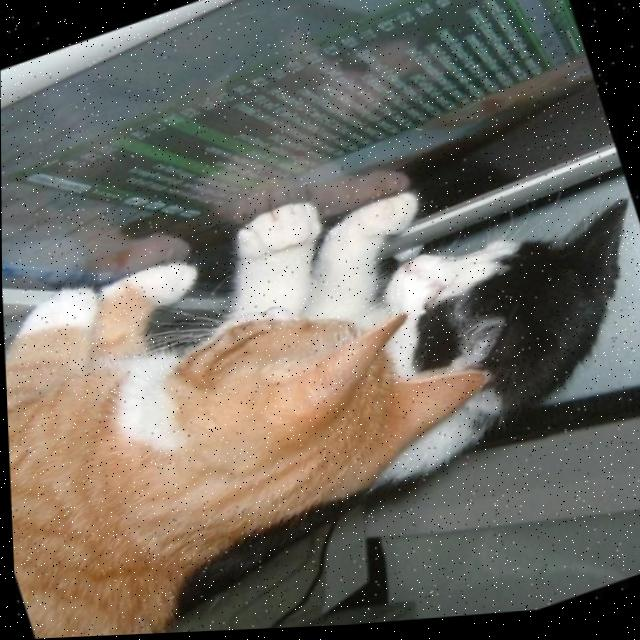Cats: (68, 102, 640, 603), (1, 162, 540, 640)
